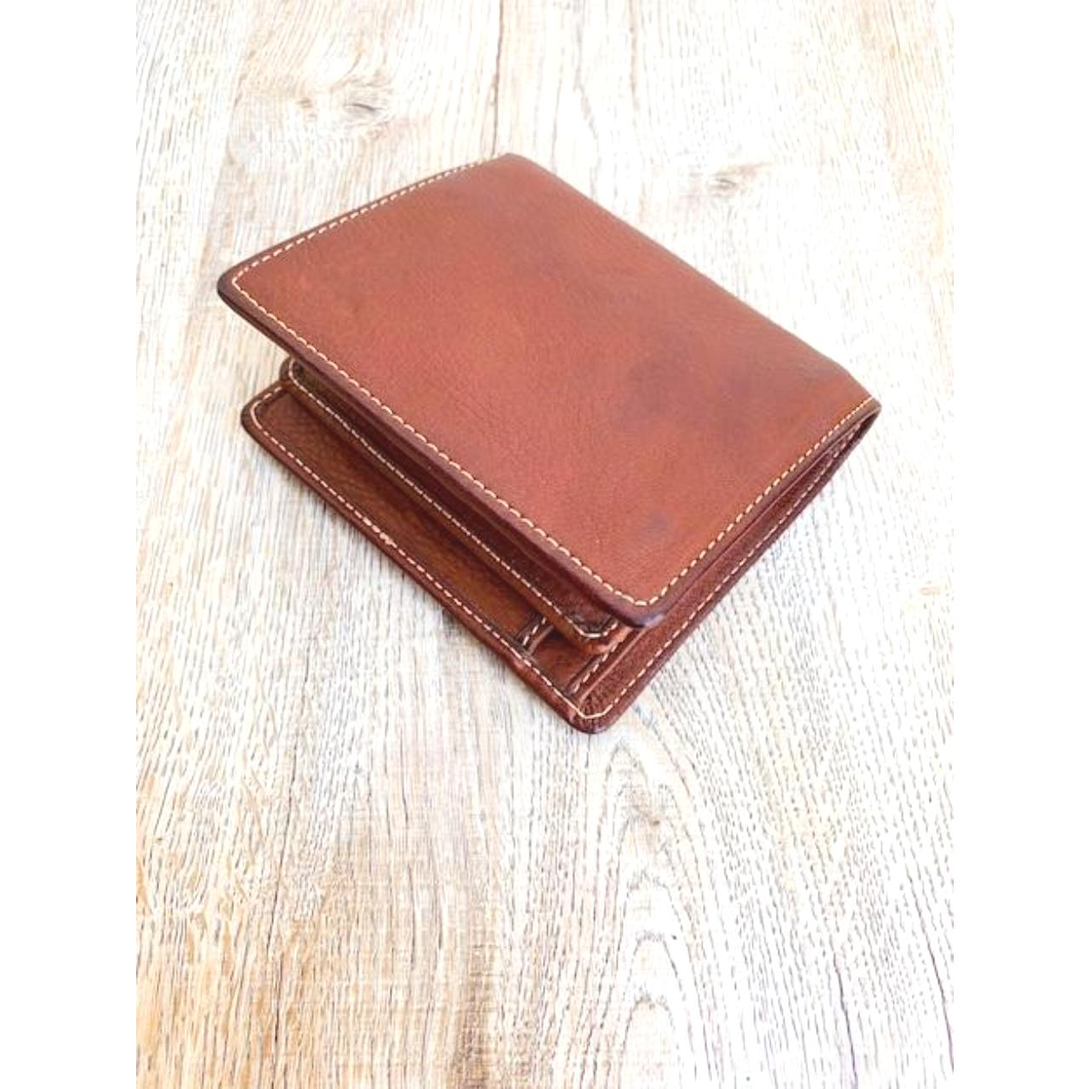wallet: (193, 83, 884, 722)
